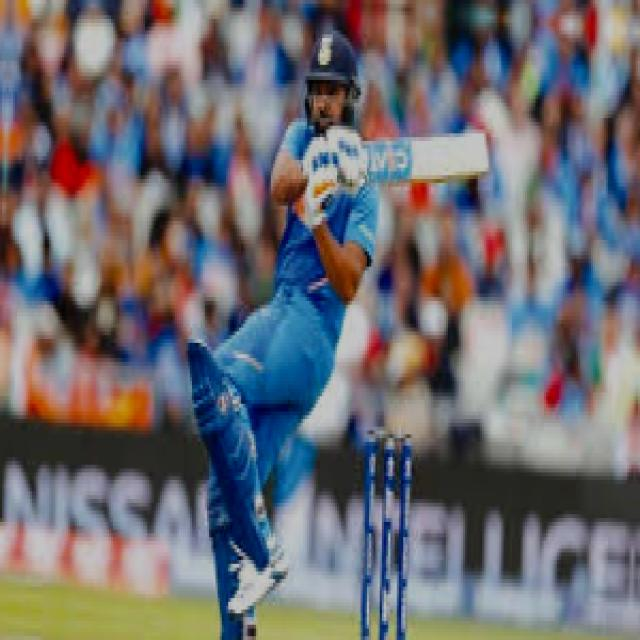toe: (469, 123, 497, 182)
